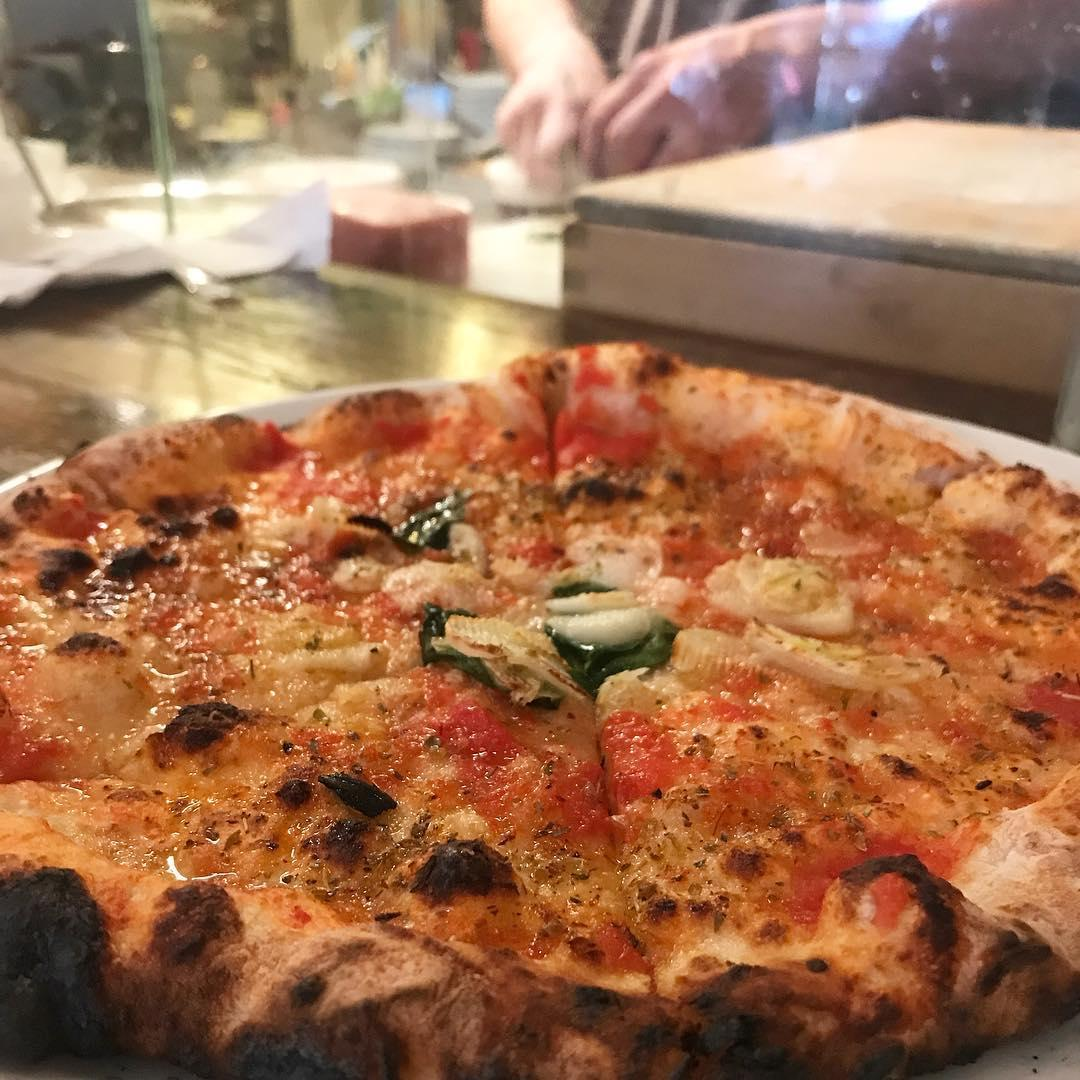Basil: (421, 605, 561, 712), (550, 580, 677, 691), (397, 493, 464, 550)
Pizza: (0, 353, 1080, 1080)
